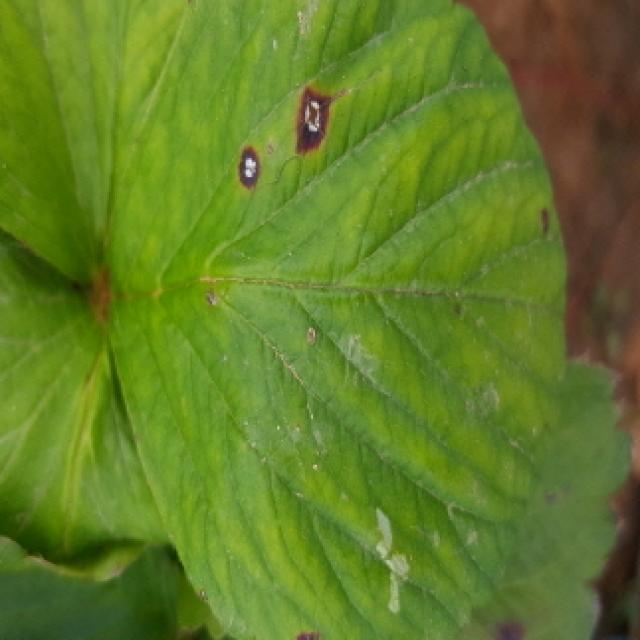Leaf Spot: (103, 0, 568, 640), (439, 360, 636, 640)
